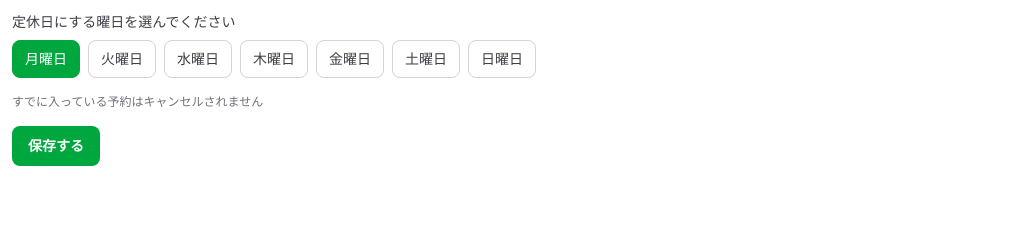
it: 曜日を押すたびに選ぶ・外すが切り替わり、保存すると選んだ曜日を送る
This screenshot has width=1036, height=245.
Click the button "水曜日" at (198, 59), box [164,40,232,78]
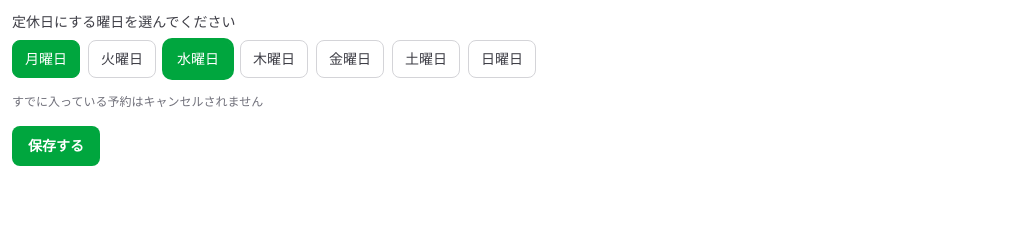
Click the button "日曜日" at (502, 59), box [468,40,536,78]
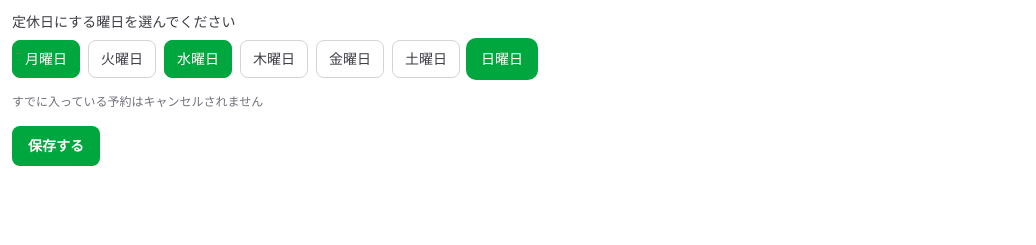
Click the button "月曜日" at (46, 59), box [12,40,80,78]
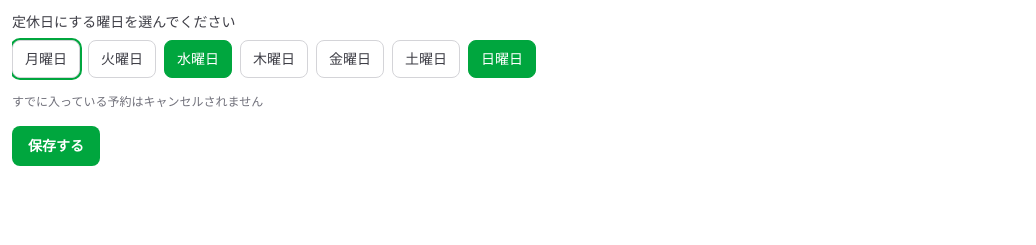
Expected: the button "月曜日" is not pressed, [12,40,80,78]
Click the button "保存する" at (56, 146), box [12,126,100,166]
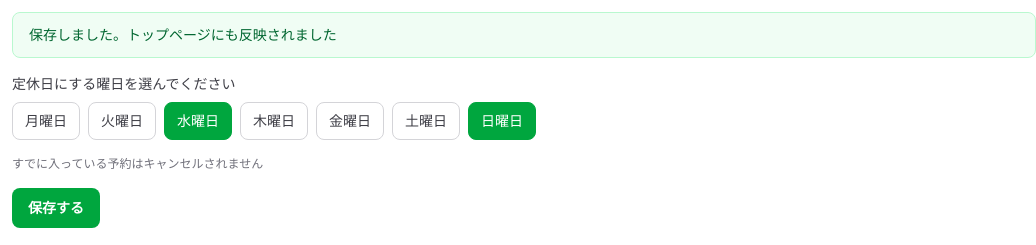
Expected: the text "保存しました。トップページにも反映されました" is shown, [12,12,1035,58]
